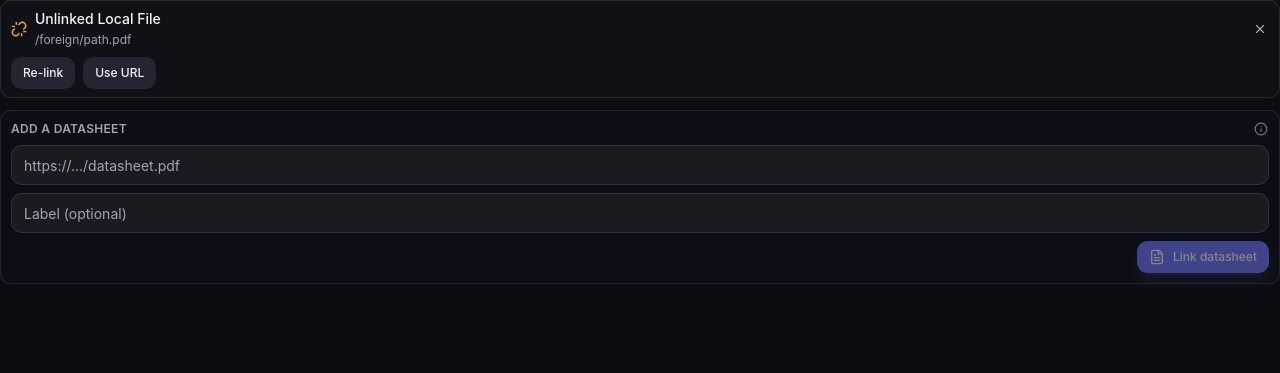
Test case: AttachmentManager — unlinked-row re-home flows › surfaces a failed re-home in an alert on the row
The image size is (1280, 373).
Click the button with test id "attachment-relink".
click(43, 73)  # box [11,57,75,89]
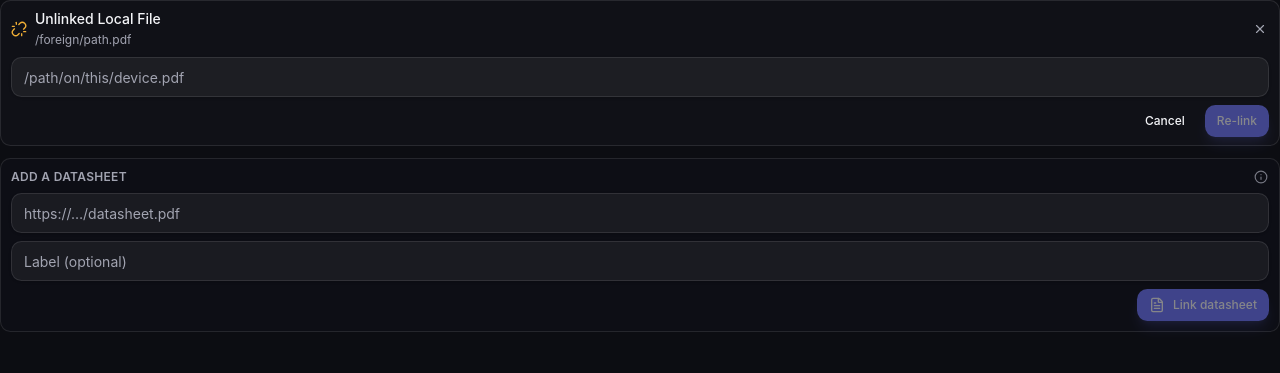
Type "/home/me/x.pdf" into the field with test id "attachment-relink-input".
click(640, 77); type("/home/me/x.pdf")  # box [11,57,1269,97]
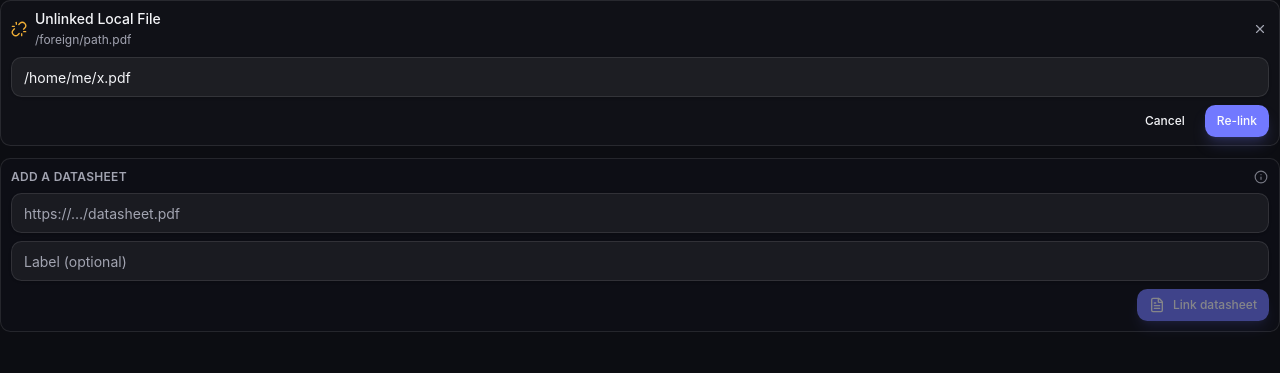
Click the button with test id "attachment-relink-confirm".
click(1237, 121)  # box [1205,105,1269,137]
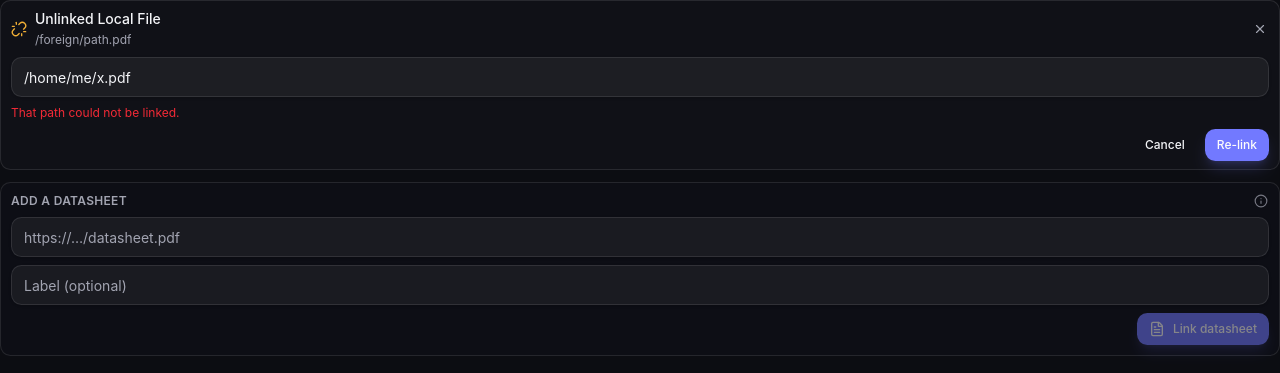
Now the message reads "That path could not be linked.", box [11,105,180,120]
